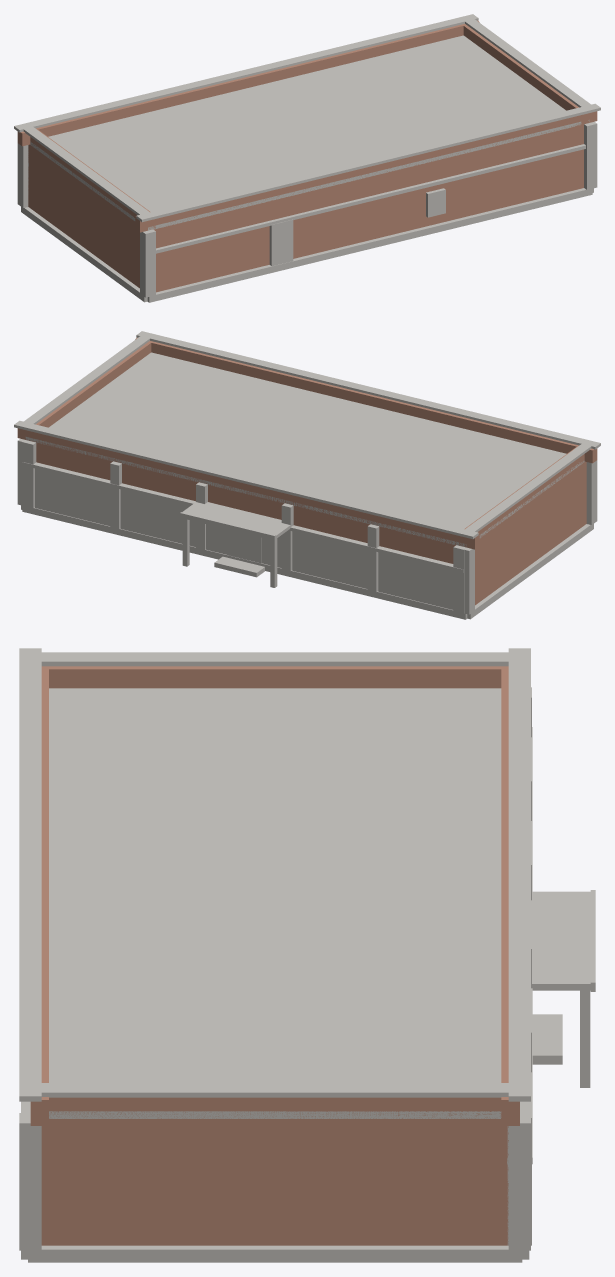
The model's file is cp_rec_center.glb.
3 renders of one model, top to bottom at view 1: azimuth 30°, elevation 25°; view 2: azimuth 150°, elevation 25°; view 3: azimuth 270°, elevation 25°, orthographic. The views are drawn at different scales.
Visible parts, largest first — view 1: NorthMeadowRecCenter; view 2: NorthMeadowRecCenter; view 3: NorthMeadowRecCenter.
Part boxes in pixels (x1,y1,x2,y2): NorthMeadowRecCenter: (14,14,600,302); NorthMeadowRecCenter: (14,331,600,619); NorthMeadowRecCenter: (19,648,595,1262).
Size of the model in its own units: 26 by 4.64 by 14.13.
